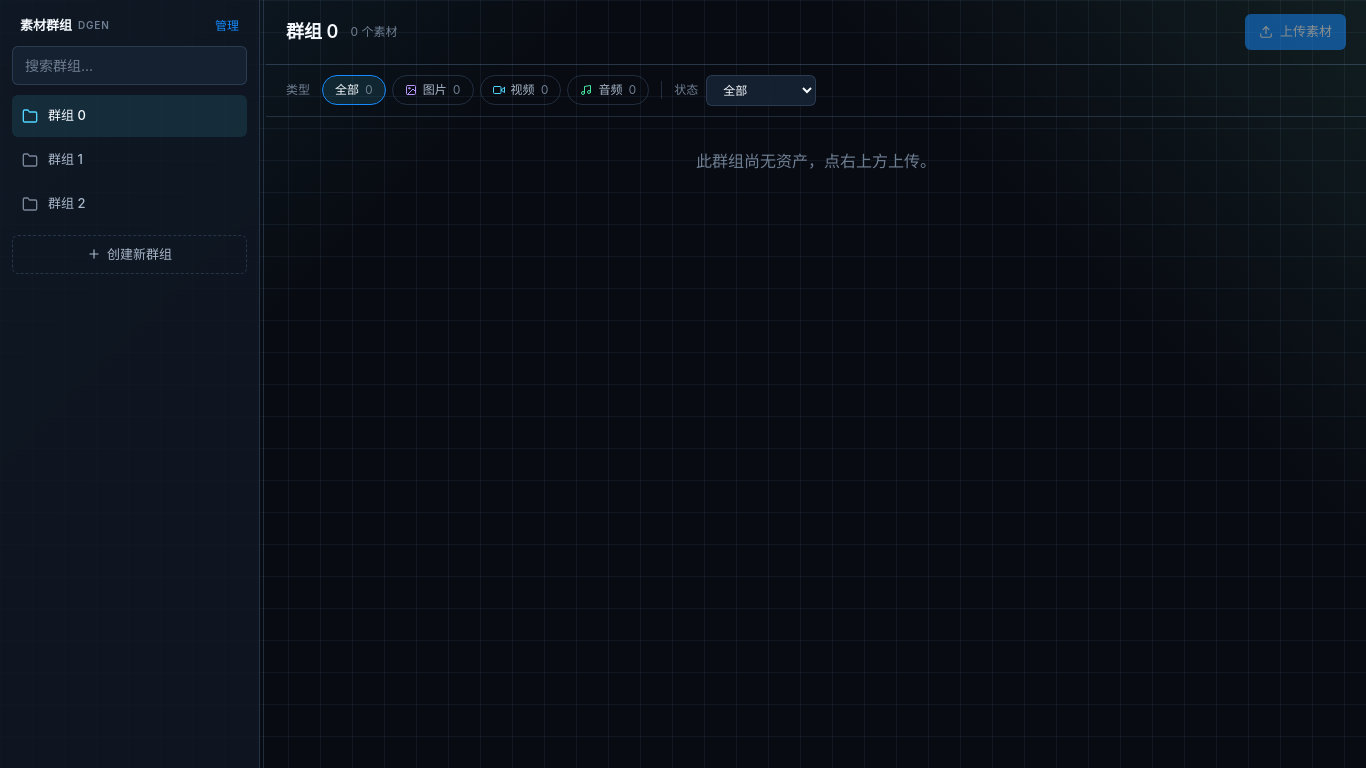
batch group delete wiring › typing 删除 enables confirm; both groups deleted via deleteAssetGroup; job kind is group
This screenshot has width=1366, height=768.
Expected: the element with test id "group-row-g-0" is shown, [12,94,247,136]
Click the button "管理" at (227, 26), box [215,17,239,35]
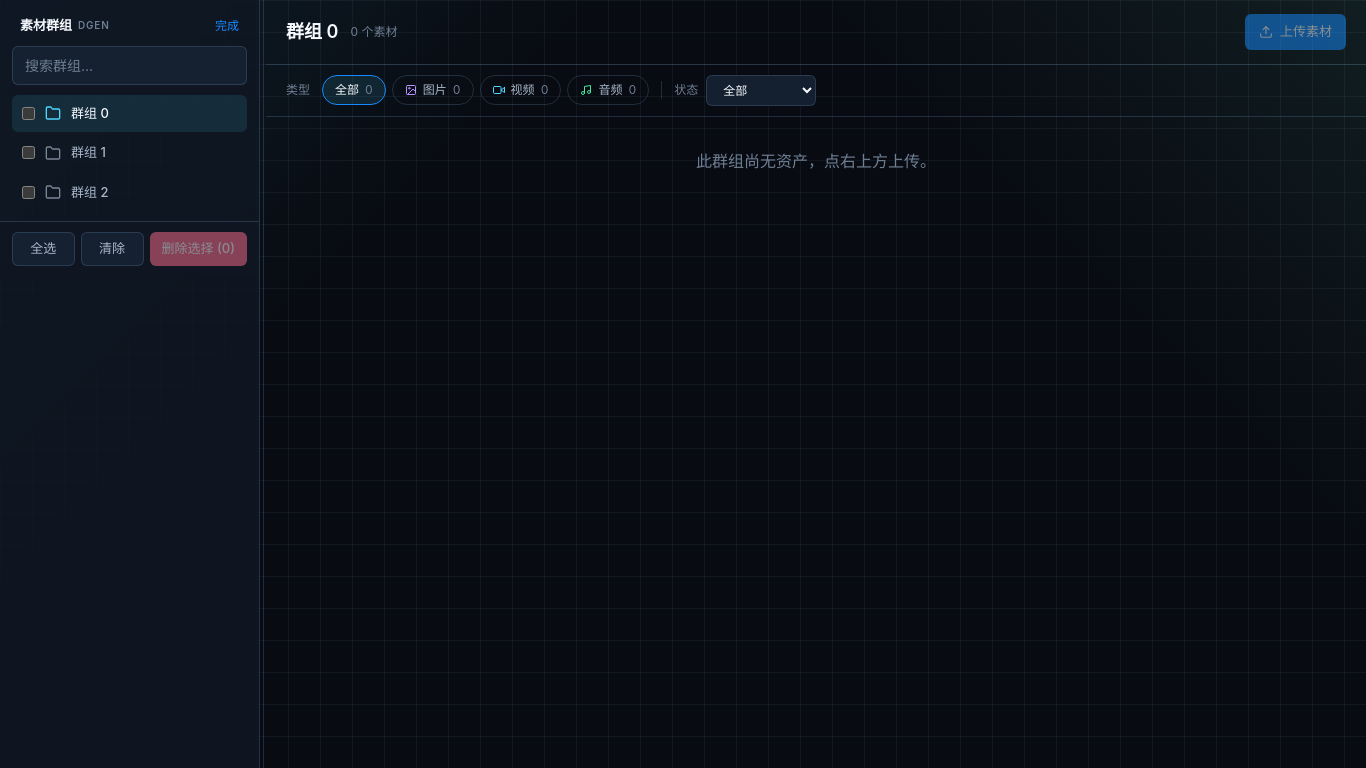
Click the element with test id "group-row-g-0" at (130, 113), box [12,94,247,132]
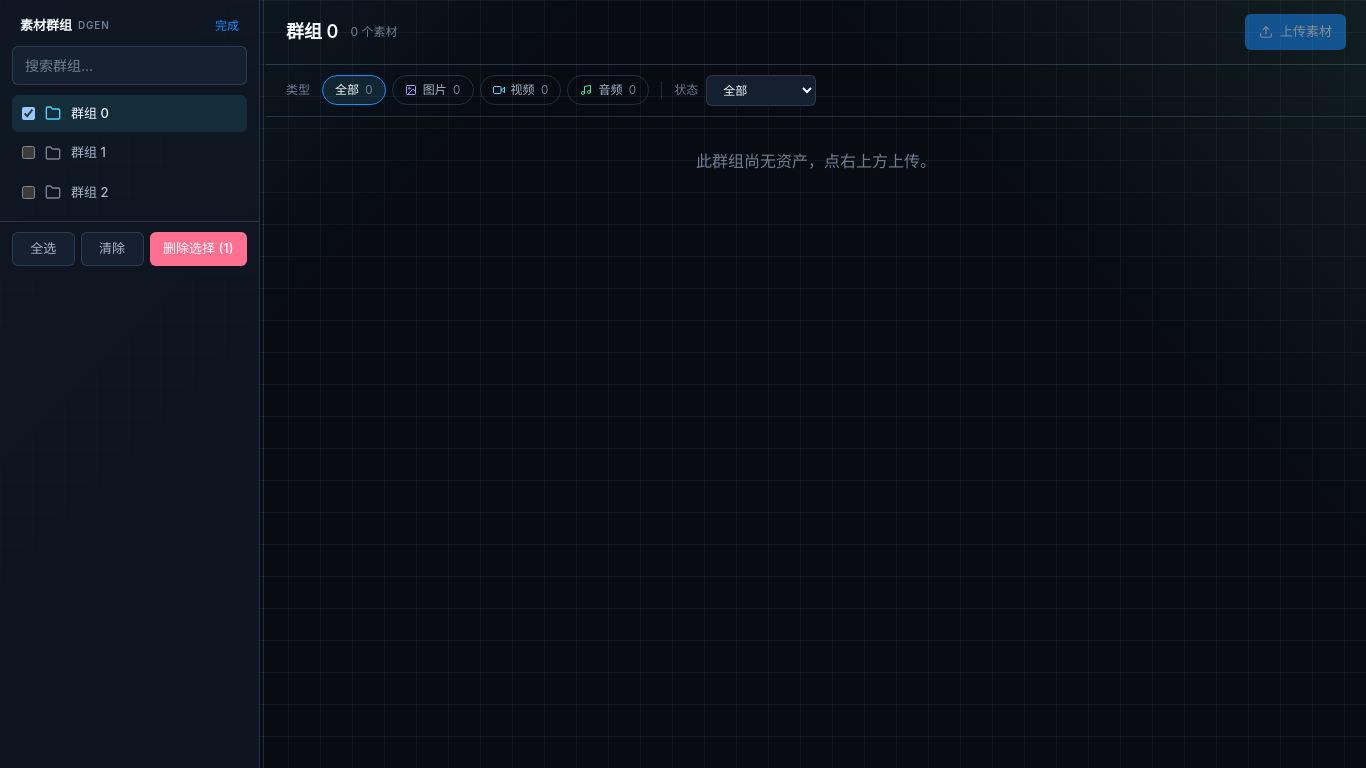
Click the element with test id "group-row-g-1" at (64, 152), box [22,144,106,161]
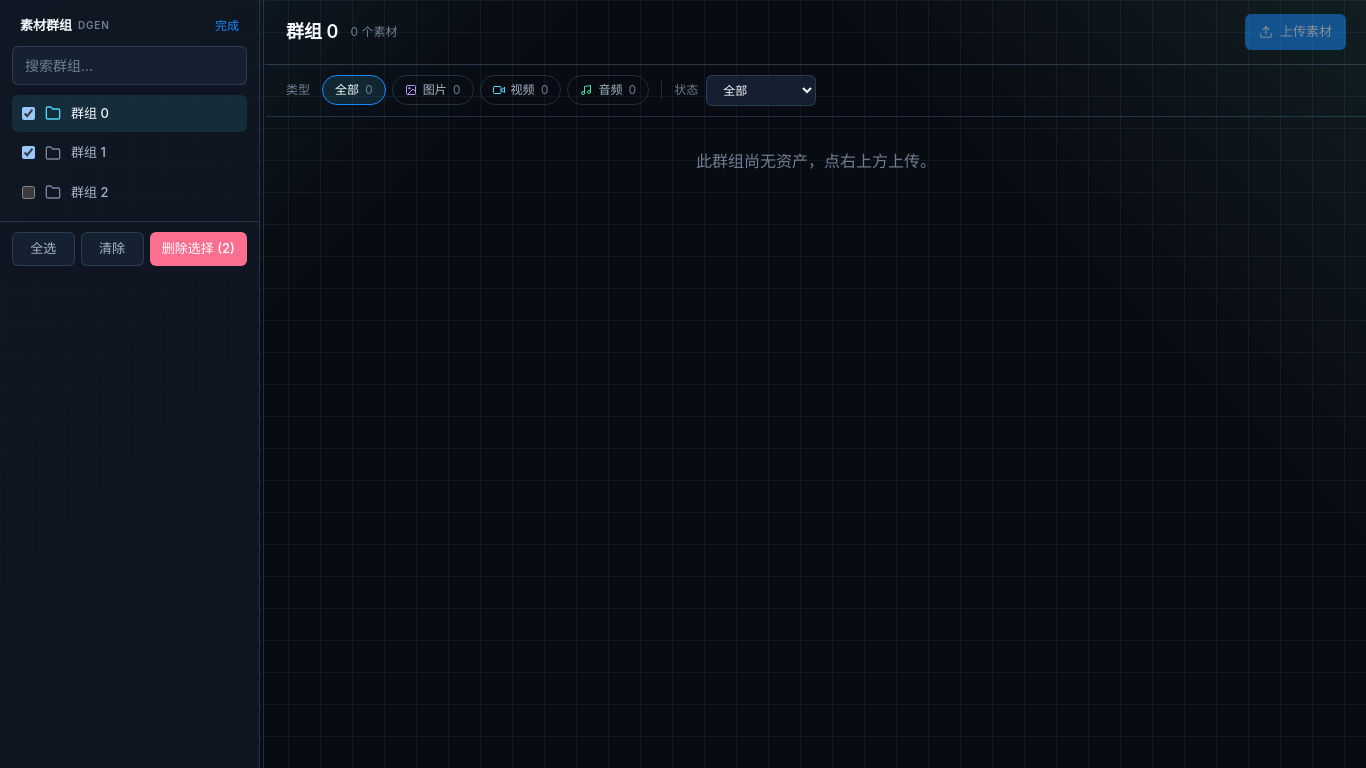
Click the button "删除选择 (2)" at (198, 249), box [150,232,247,266]
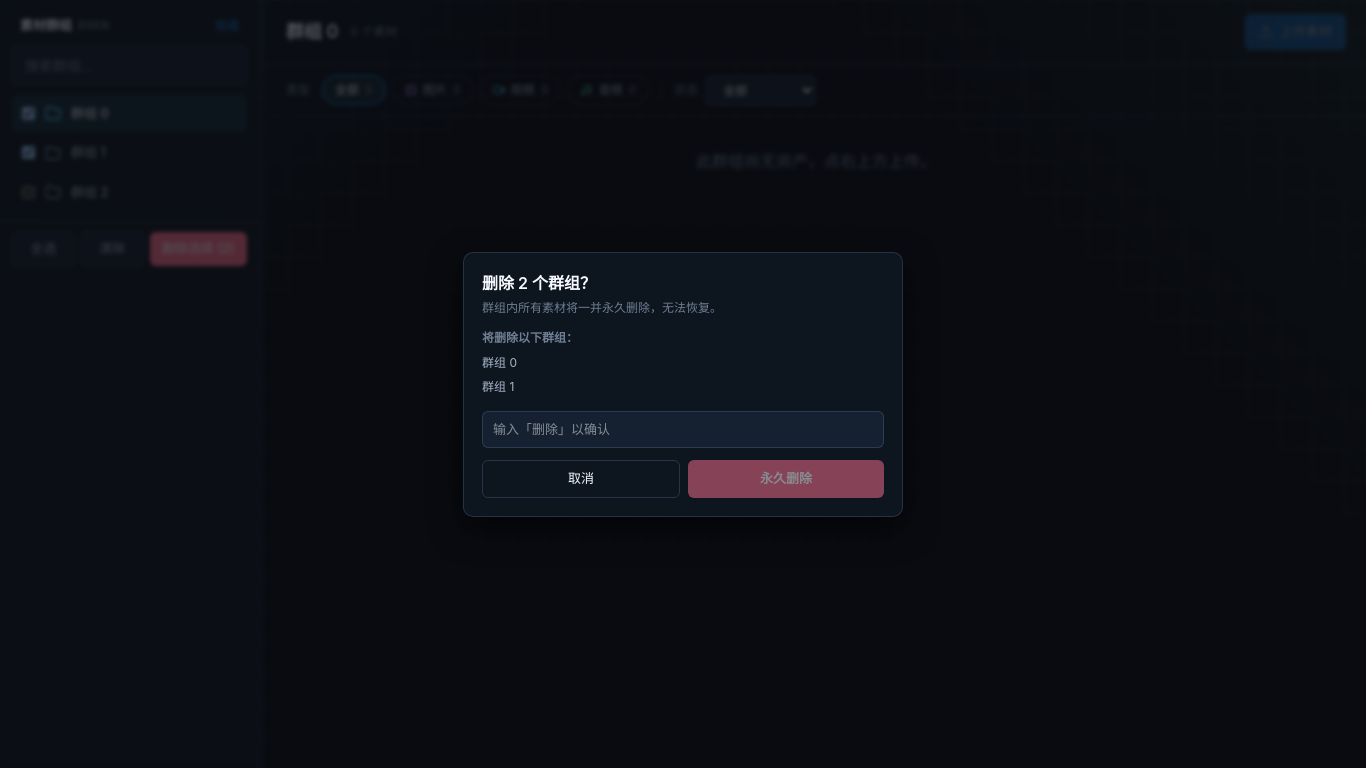
Type "删除" into the field with placeholder "输入「删除」以确认" at (683, 429), box [482,410,884,448]
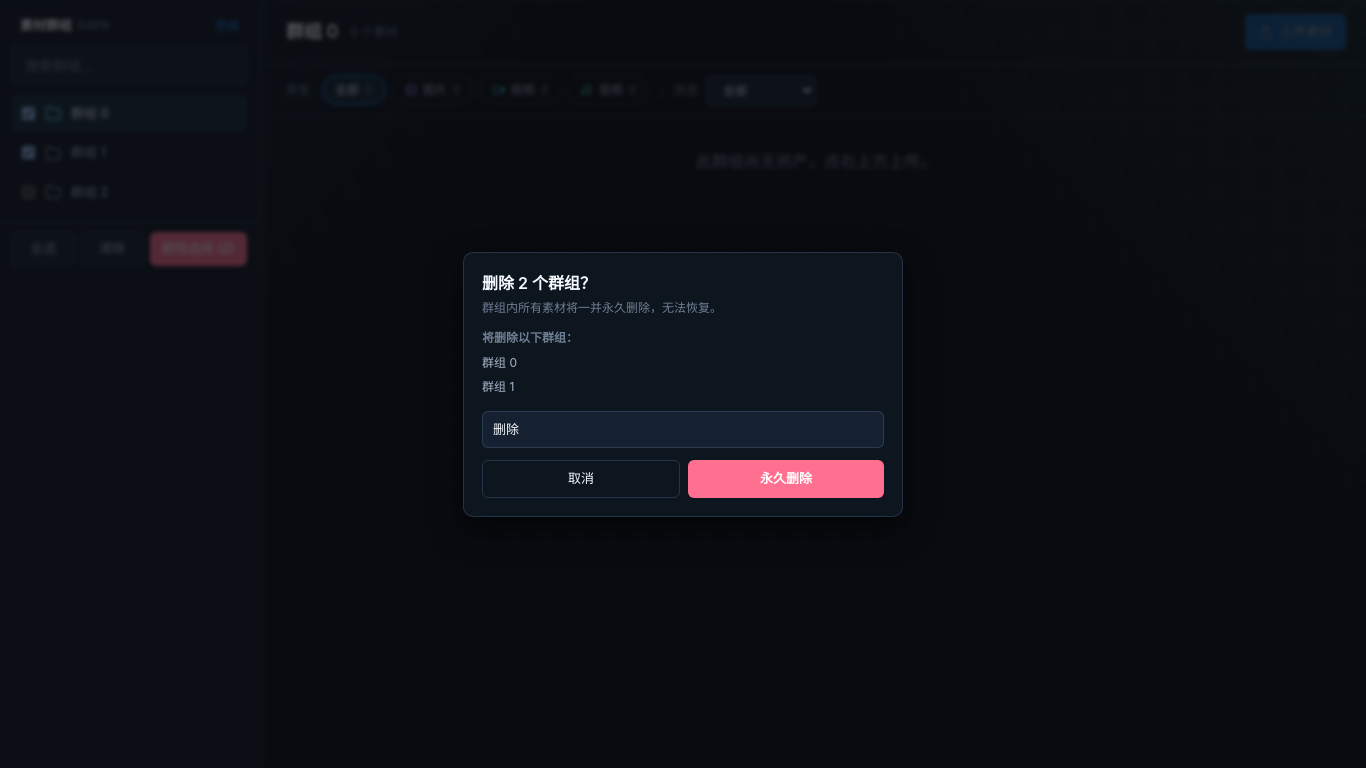
Expected: the button "永久删除" is enabled
Click the button "永久删除" at (786, 479), box [688,460,884,498]
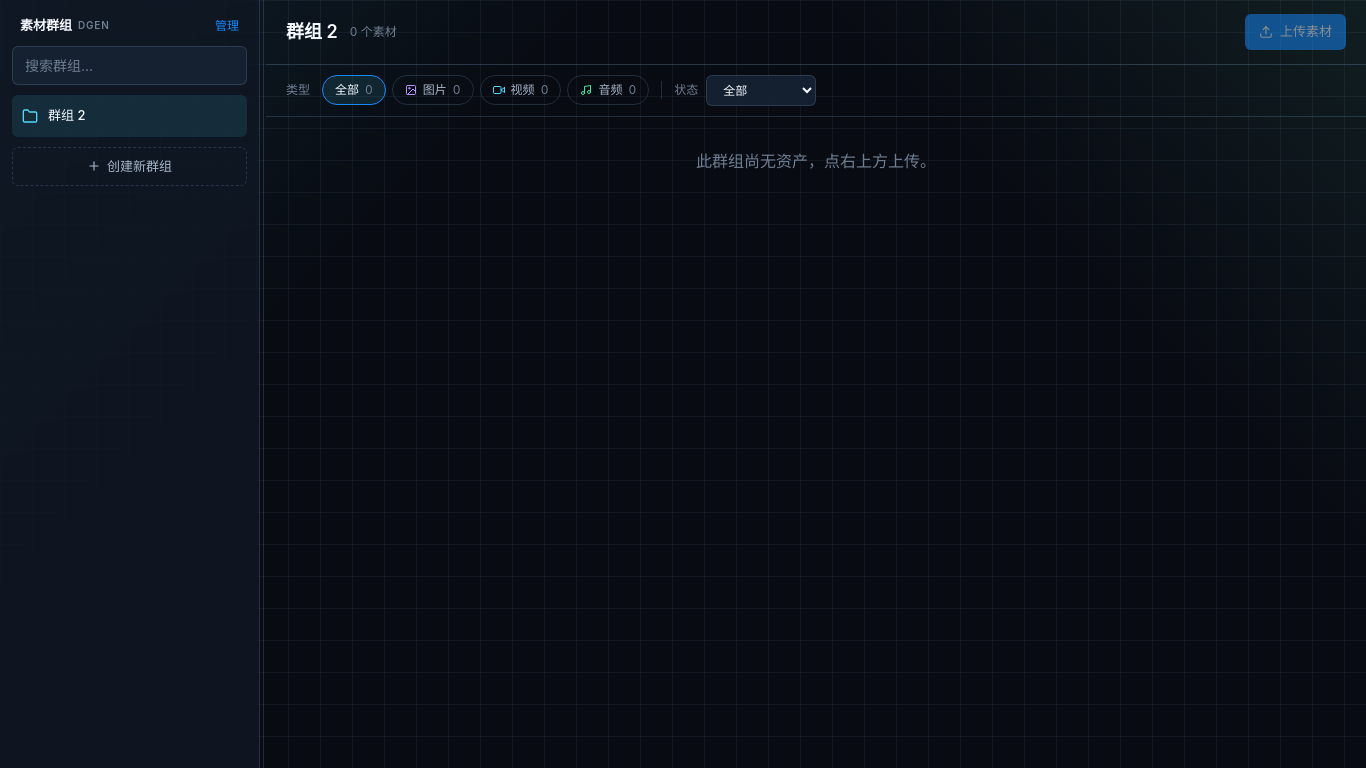
Expected: the checkbox is gone
